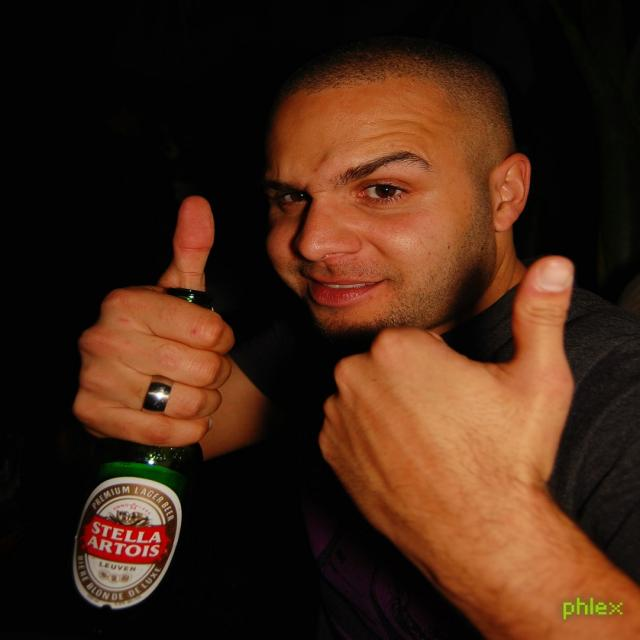stellaartois: (74, 485, 179, 604)
